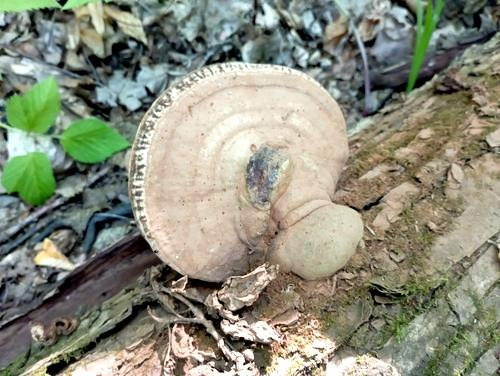Ganoderma - Fruit Body: (129, 58, 364, 280)
